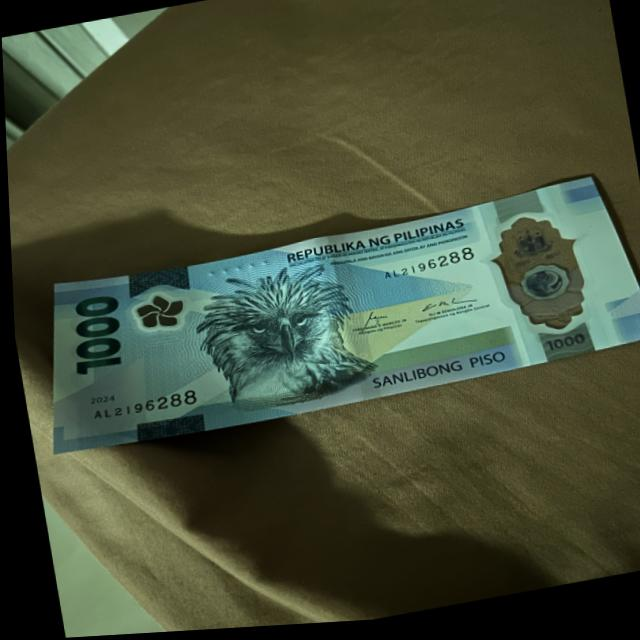clear_window: (476, 202, 602, 347)
eagle: (186, 253, 368, 416)
sampaguita: (131, 286, 182, 339)
